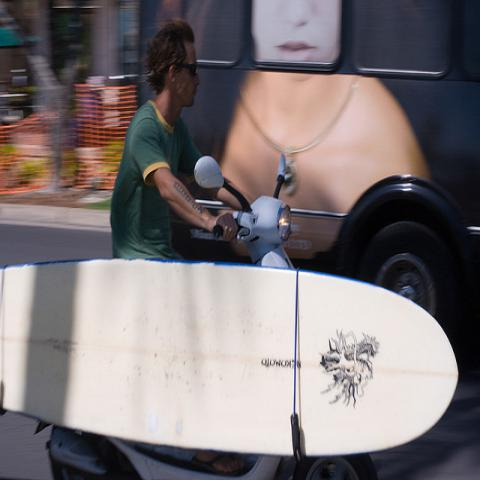bus: (137, 0, 479, 369)
motorcycle: (33, 154, 299, 475)
